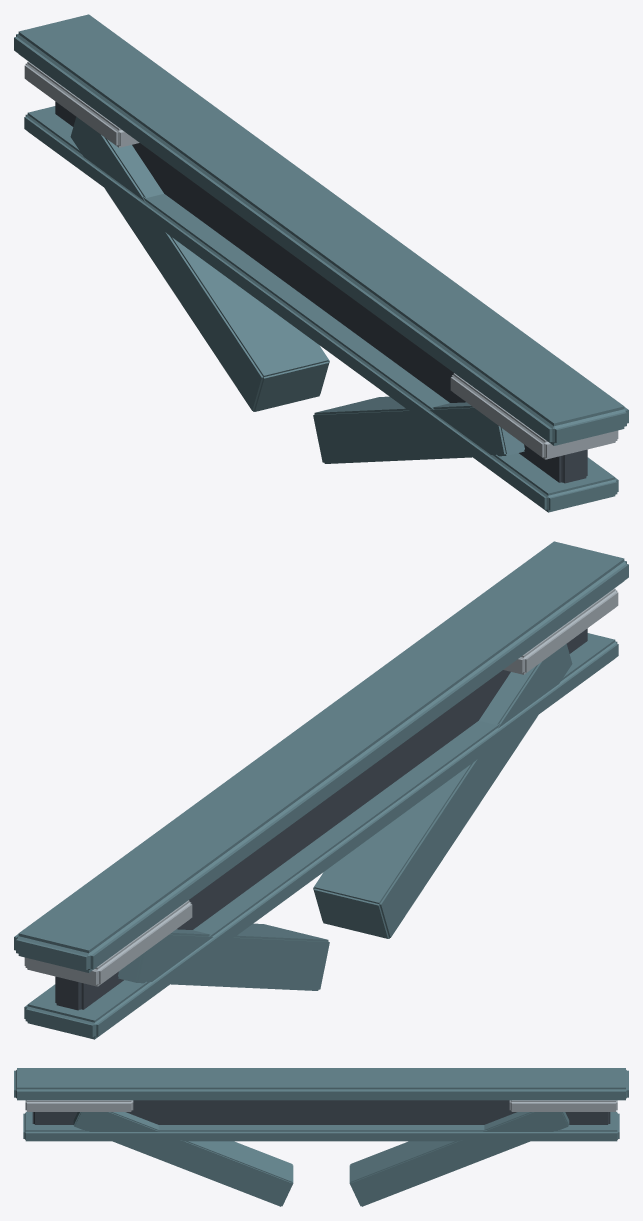
Rendered from SM_TrackTieWeb.fbx.
The picture shows the model from 3 angles, top to bottom: view 1: azimuth 30°, elevation 25°; view 2: azimuth 150°, elevation 25°; view 3: azimuth 270°, elevation 25°; orthographic projection. The views are drawn at different scales.
Visible parts, largest first — view 1: VCTie2_SM_TrackTieWeb; view 2: VCTie2_SM_TrackTieWeb; view 3: VCTie2_SM_TrackTieWeb.
Part boxes in pixels (x1,y1,x2,y2): VCTie2_SM_TrackTieWeb: (14, 14, 628, 512); VCTie2_SM_TrackTieWeb: (14, 541, 628, 1039); VCTie2_SM_TrackTieWeb: (14, 1068, 628, 1206).
Size of the model in its own units: 1.65 by 0.14 by 0.3556.
